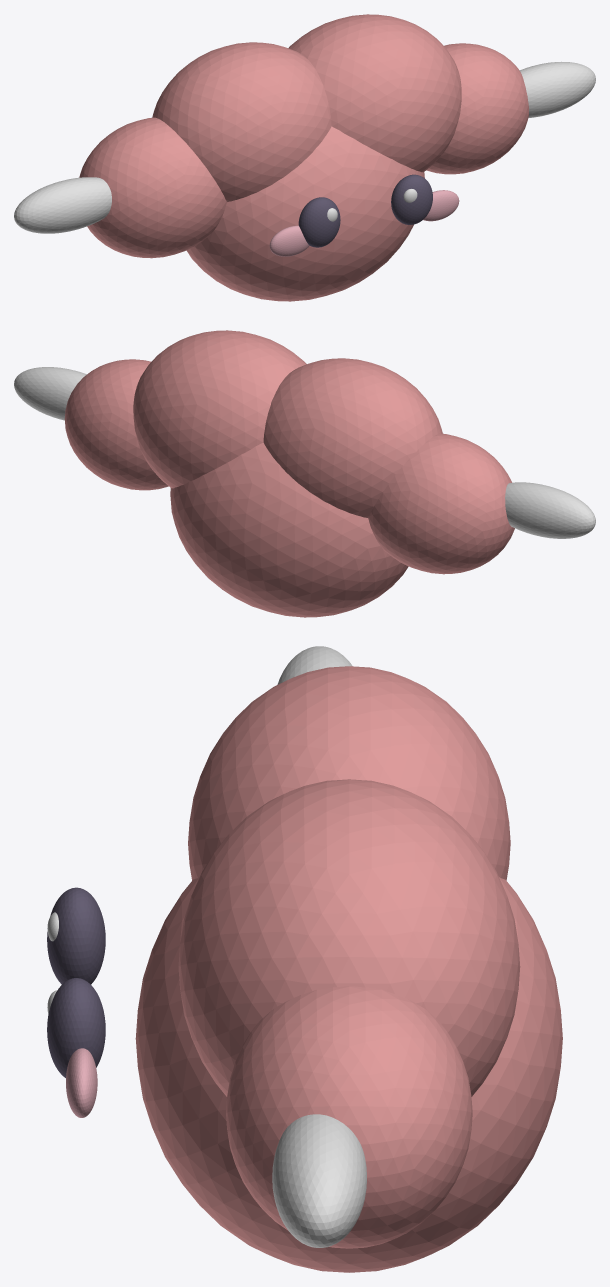
File: howahowa_coral.glb
3 renders of one model, top to bottom at view 1: azimuth 30°, elevation 25°; view 2: azimuth 150°, elevation 25°; view 3: azimuth 270°, elevation 25°, orthographic. The views are drawn at different scales.
Parts seen in each view (by area): view 1: howahowa_4, howahowa_1, howahowa_2, howahowa_0, howahowa_3, howahowa_5, howahowa_6, howahowa_7, howahowa_10, howahowa_9, howahowa_12; view 2: howahowa_4, howahowa_1, howahowa_2, howahowa_0, howahowa_3, howahowa_5, howahowa_6; view 3: howahowa_2, howahowa_3, howahowa_4, howahowa_1, howahowa_6, howahowa_7, howahowa_10, howahowa_12, howahowa_5.
Boxes of the visible parts, <box> form: howahowa_4: <box>186,126,424,301</box>; howahowa_1: <box>152,42,331,201</box>; howahowa_2: <box>288,14,461,172</box>; howahowa_0: <box>79,117,226,258</box>; howahowa_3: <box>426,43,528,174</box>; howahowa_5: <box>14,177,111,233</box>; howahowa_6: <box>519,61,595,117</box>; howahowa_7: <box>298,197,340,247</box>; howahowa_10: <box>391,174,432,224</box>; howahowa_9: <box>269,225,309,256</box>; howahowa_12: <box>423,190,459,221</box>; howahowa_4: <box>170,442,408,617</box>; howahowa_1: <box>263,358,442,517</box>; howahowa_2: <box>133,330,306,488</box>; howahowa_0: <box>368,433,514,574</box>; howahowa_3: <box>64,359,168,490</box>; howahowa_5: <box>505,482,595,538</box>; howahowa_6: <box>14,367,86,420</box>; howahowa_2: <box>178,779,520,1096</box>; howahowa_3: <box>226,986,472,1248</box>; howahowa_4: <box>135,877,562,1272</box>; howahowa_1: <box>188,666,510,880</box>; howahowa_6: <box>272,1114,366,1247</box>; howahowa_7: <box>47,887,105,984</box>; howahowa_10: <box>47,978,105,1077</box>; howahowa_12: <box>66,1048,97,1117</box>; howahowa_5: <box>277,646,352,684</box>.
Bounding box in the file's own units: 2.26 × 0.9415 × 0.8695.
